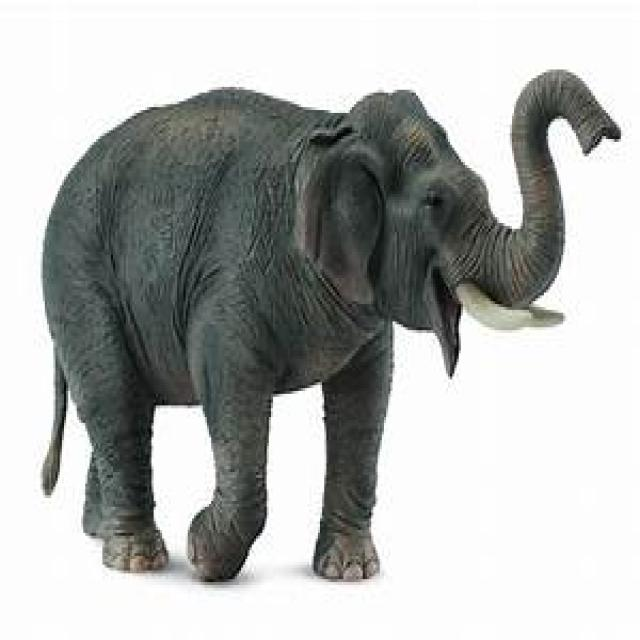elephant: (41, 70, 623, 585)
